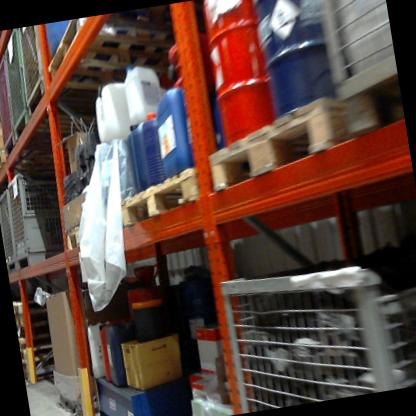pallet: (196, 92, 352, 205), (41, 5, 185, 106), (111, 155, 209, 239), (0, 141, 62, 180), (12, 290, 63, 315), (24, 360, 58, 385), (19, 333, 56, 351), (14, 310, 49, 329), (20, 345, 57, 361), (23, 356, 59, 372), (18, 323, 52, 338)
stillage: (214, 232, 416, 414), (312, 0, 404, 137), (4, 162, 77, 275), (15, 23, 75, 113), (0, 32, 43, 138), (0, 181, 27, 280), (0, 49, 21, 169)
